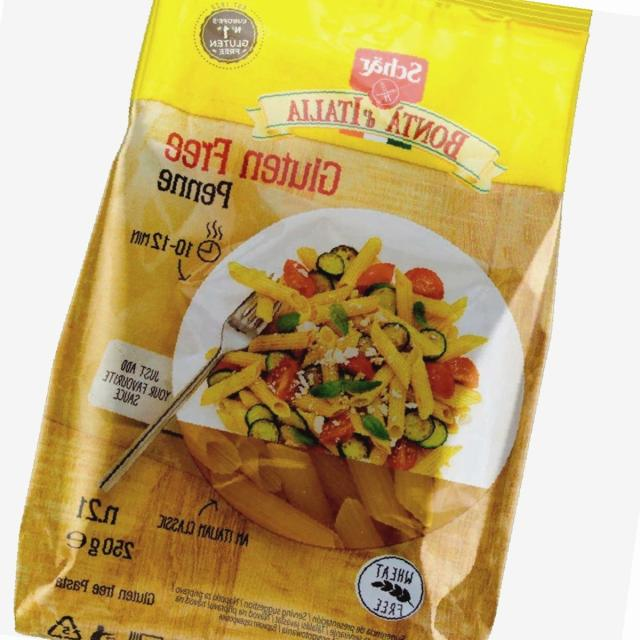pasta package: (16, 0, 589, 639)
